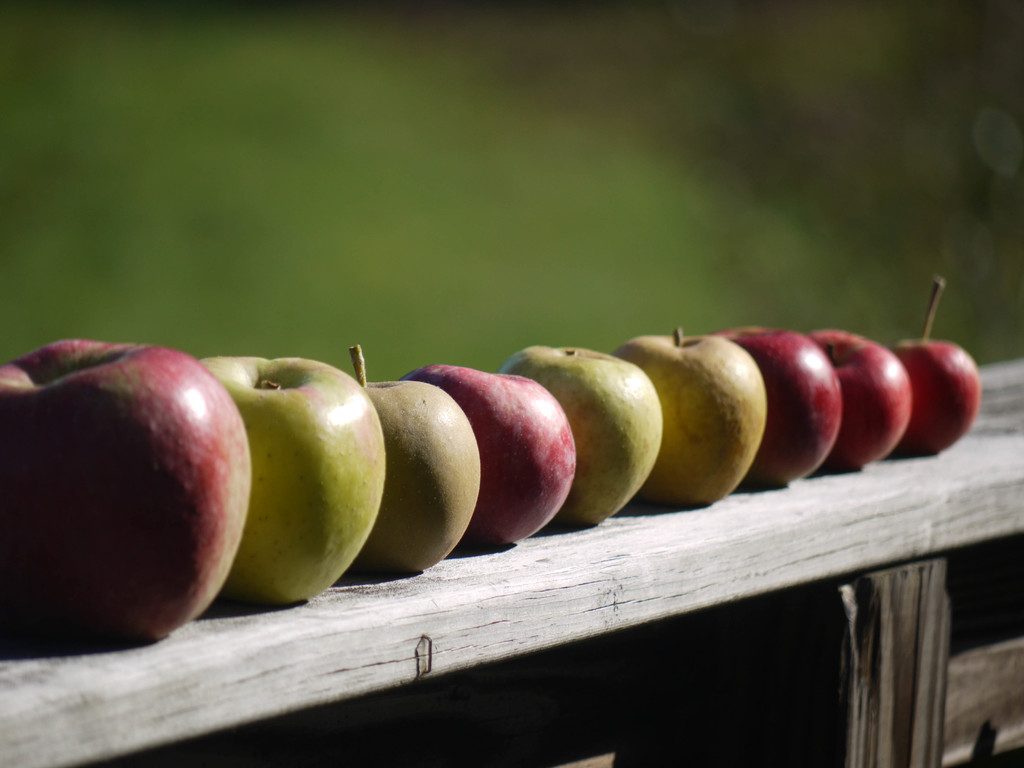Apple: (195, 269, 982, 606), (197, 273, 979, 605), (0, 335, 249, 637)
